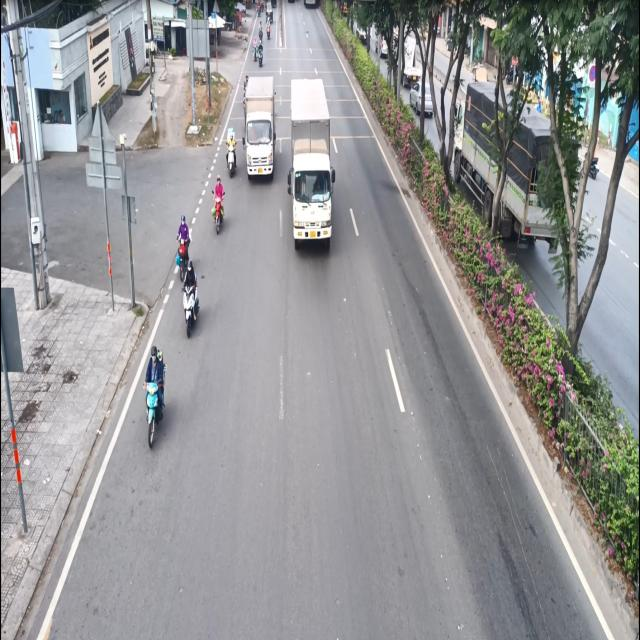motor: (180, 256, 203, 341), (144, 344, 162, 450), (178, 213, 188, 283), (213, 174, 225, 232), (225, 124, 236, 174)
truck: (286, 76, 338, 259), (245, 76, 276, 188)
